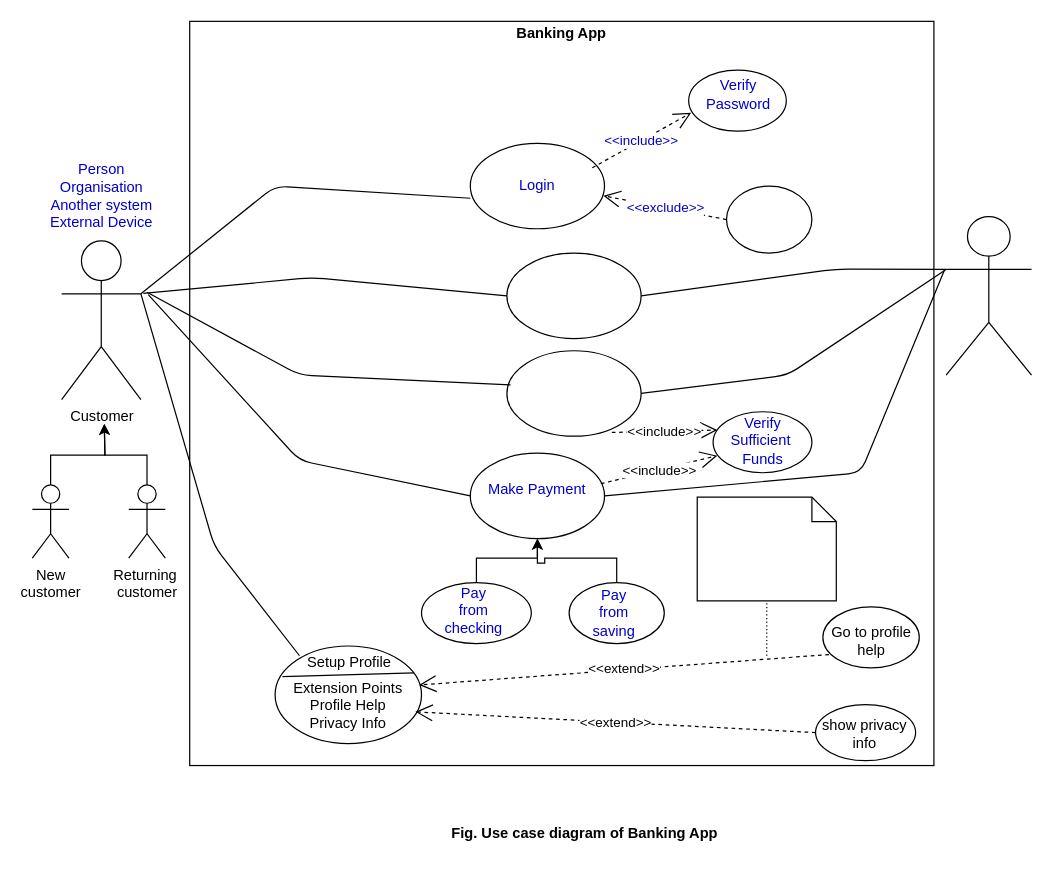
Image size: 1053x886. Some labels were removed from this diagram. Here are the shapes that lost their labels. From the top down, the box of each, then its label:
(725, 185, 812, 253): Display Login Error
(506, 252, 641, 339): Check Balance
(945, 215, 1032, 375): Bank
(506, 350, 641, 436): Transfer Funds
(696, 496, 836, 601): If users clicks help link, go to Profile Help
